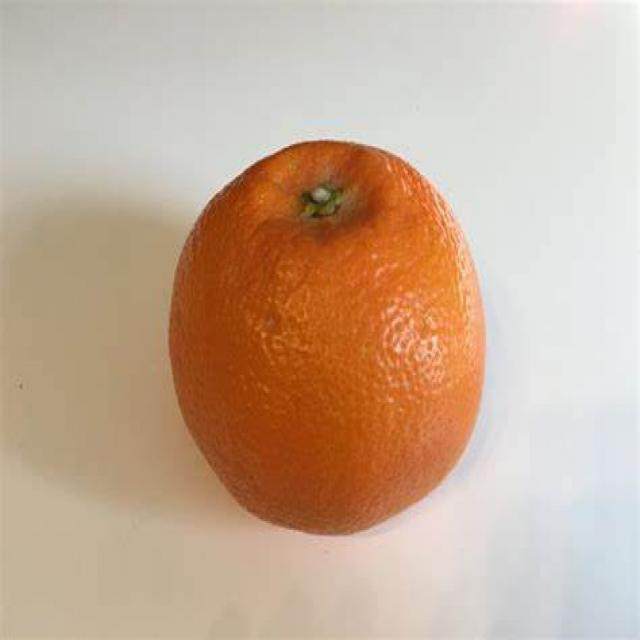Orange: (167, 133, 493, 531)
